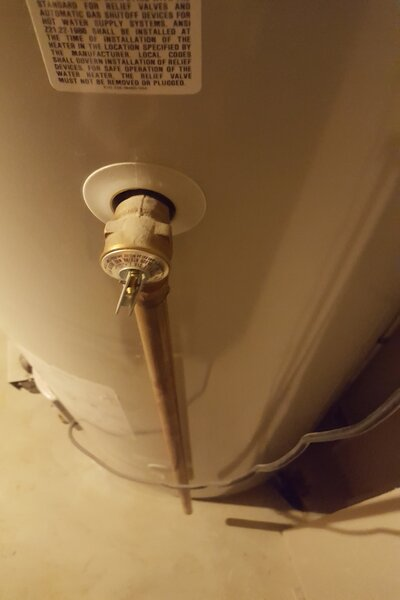valve: (102, 180, 178, 318)
